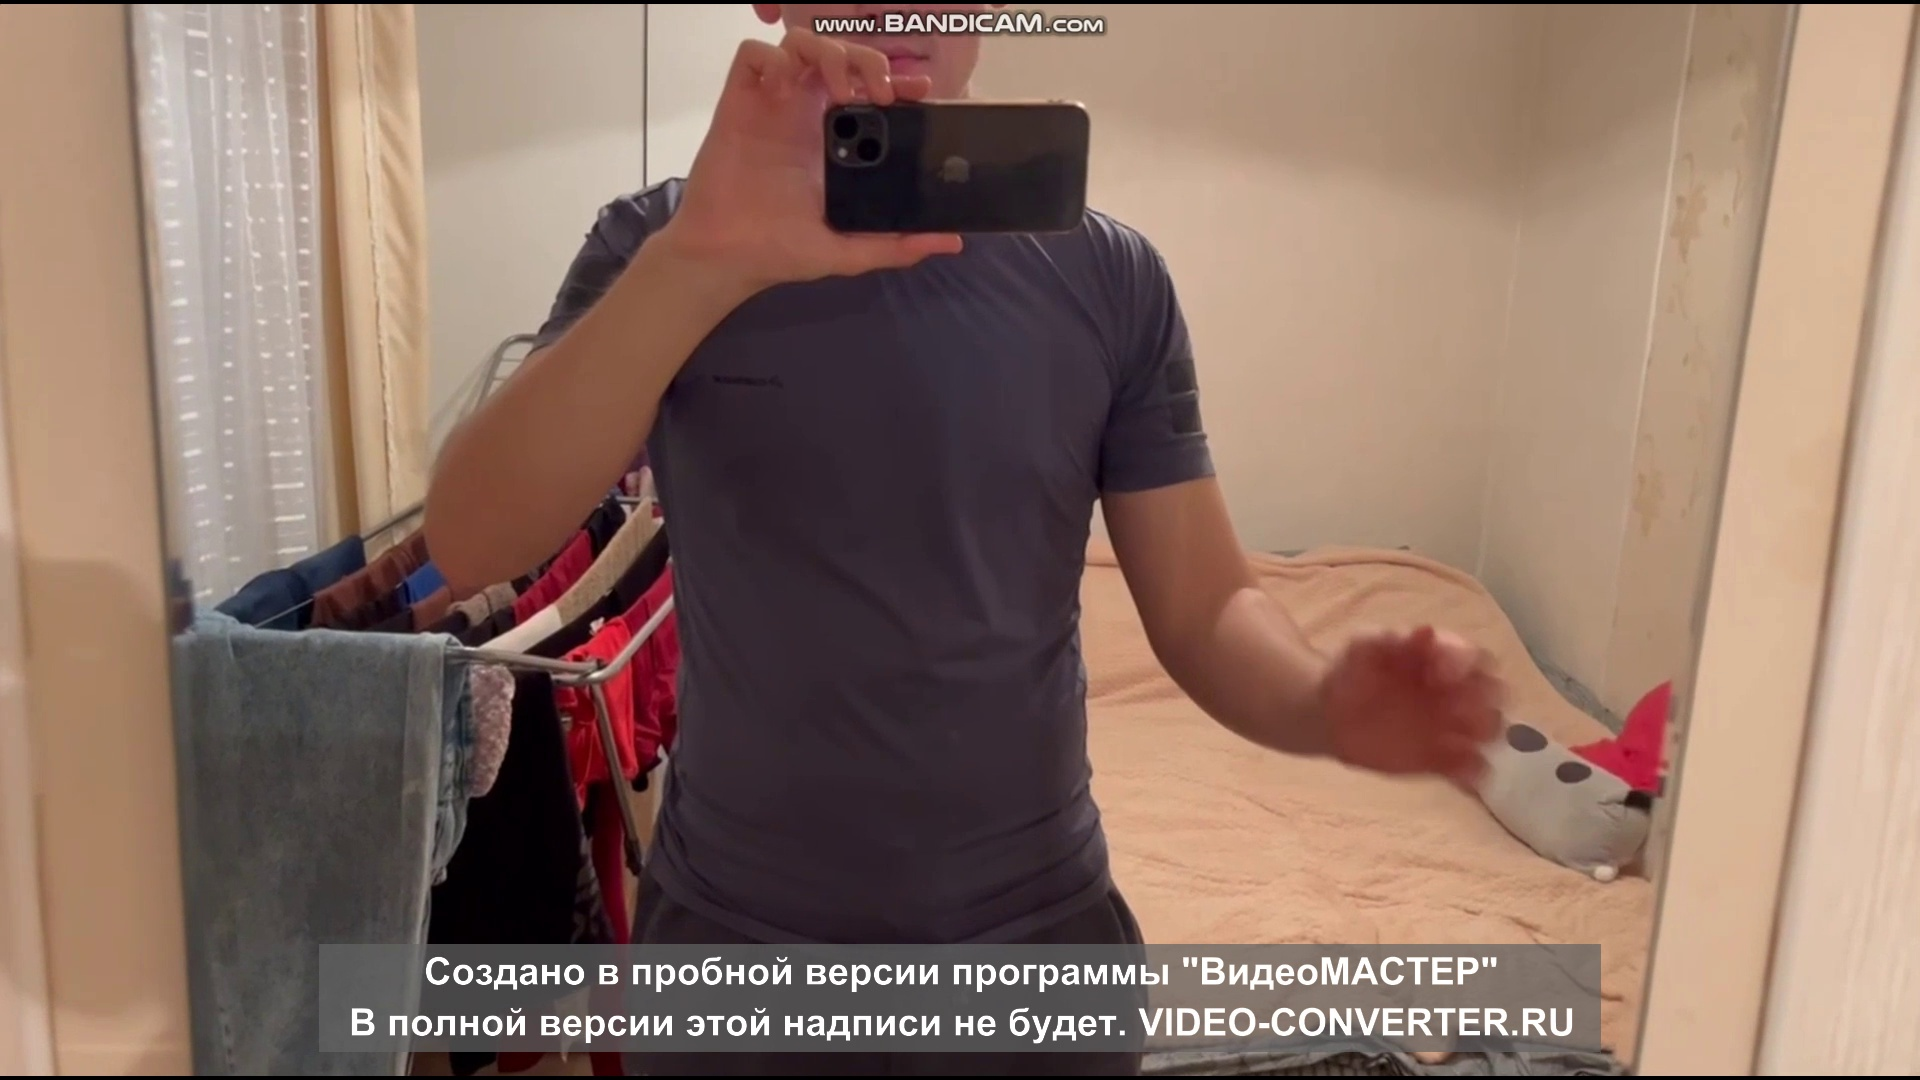Ладонь: (1320, 622, 1513, 781)
